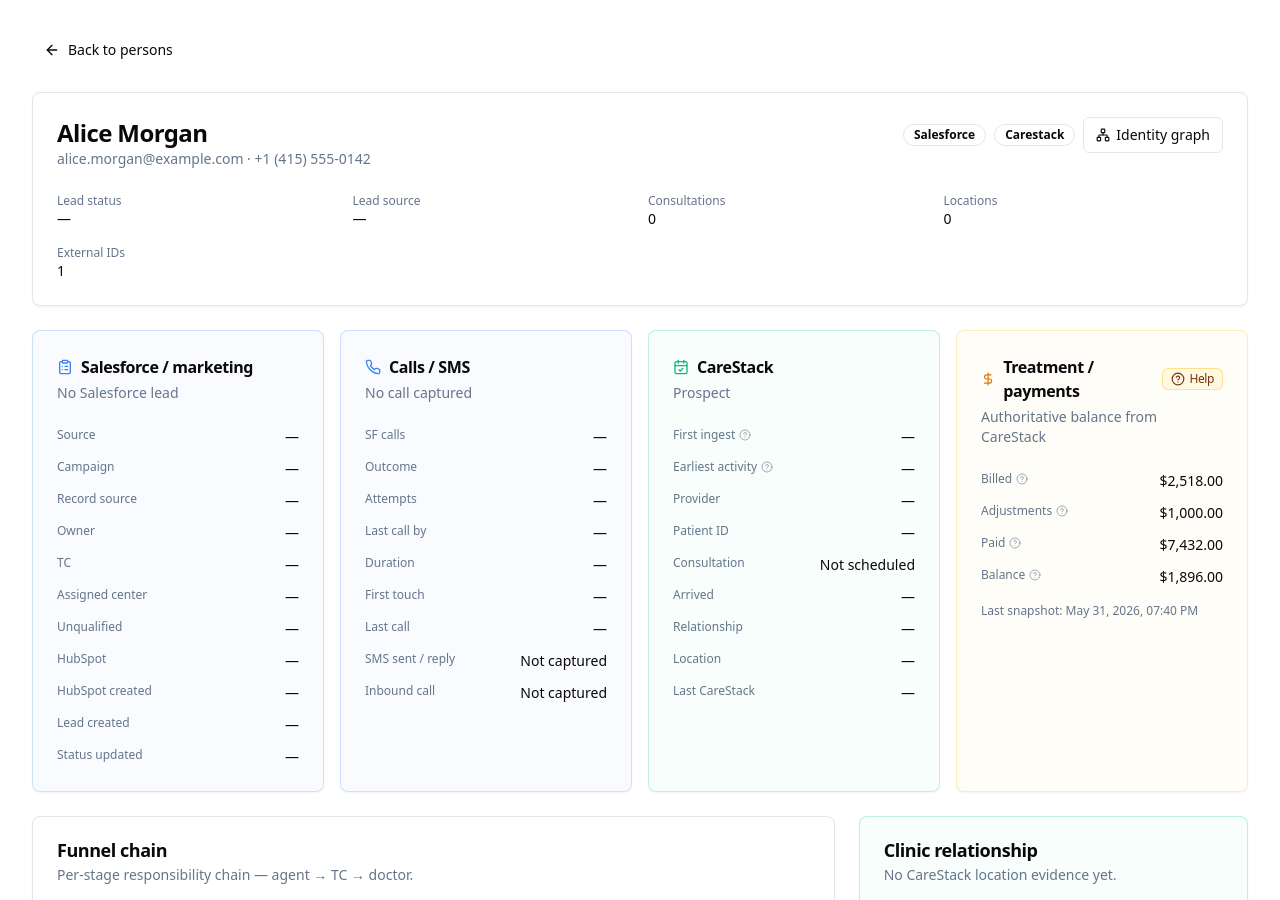
it: FinancialSummaryCard on PersonDetailPage › opens a Help dialog and toggles EN/RU content
Check: the text "Treatment / payments" is shown, box [1003, 356, 1094, 402]
Click the button with aria-label "How to read Treatment / payments" at coordinates (1193, 379), box [1162, 368, 1223, 390]
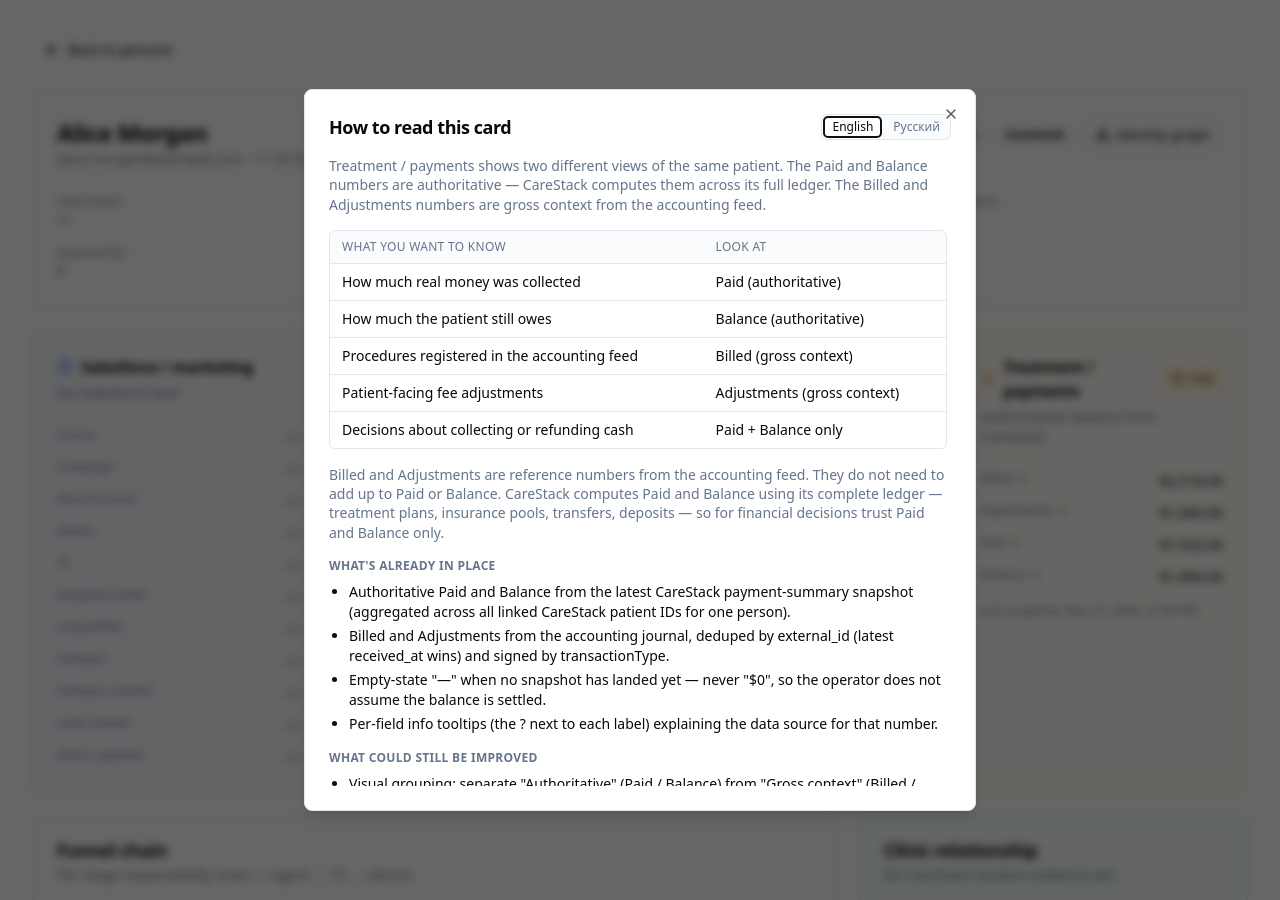
Check: the text "Сколько реально получено денег" is not shown
Check: the heading "How to read this card" is shown, box [329, 118, 511, 136]
Check: the text "How much real money was collected" is shown, box [330, 263, 704, 300]
// Toggle to Russian.
Click the button "Русский" at coordinates (917, 127), box [885, 117, 948, 137]
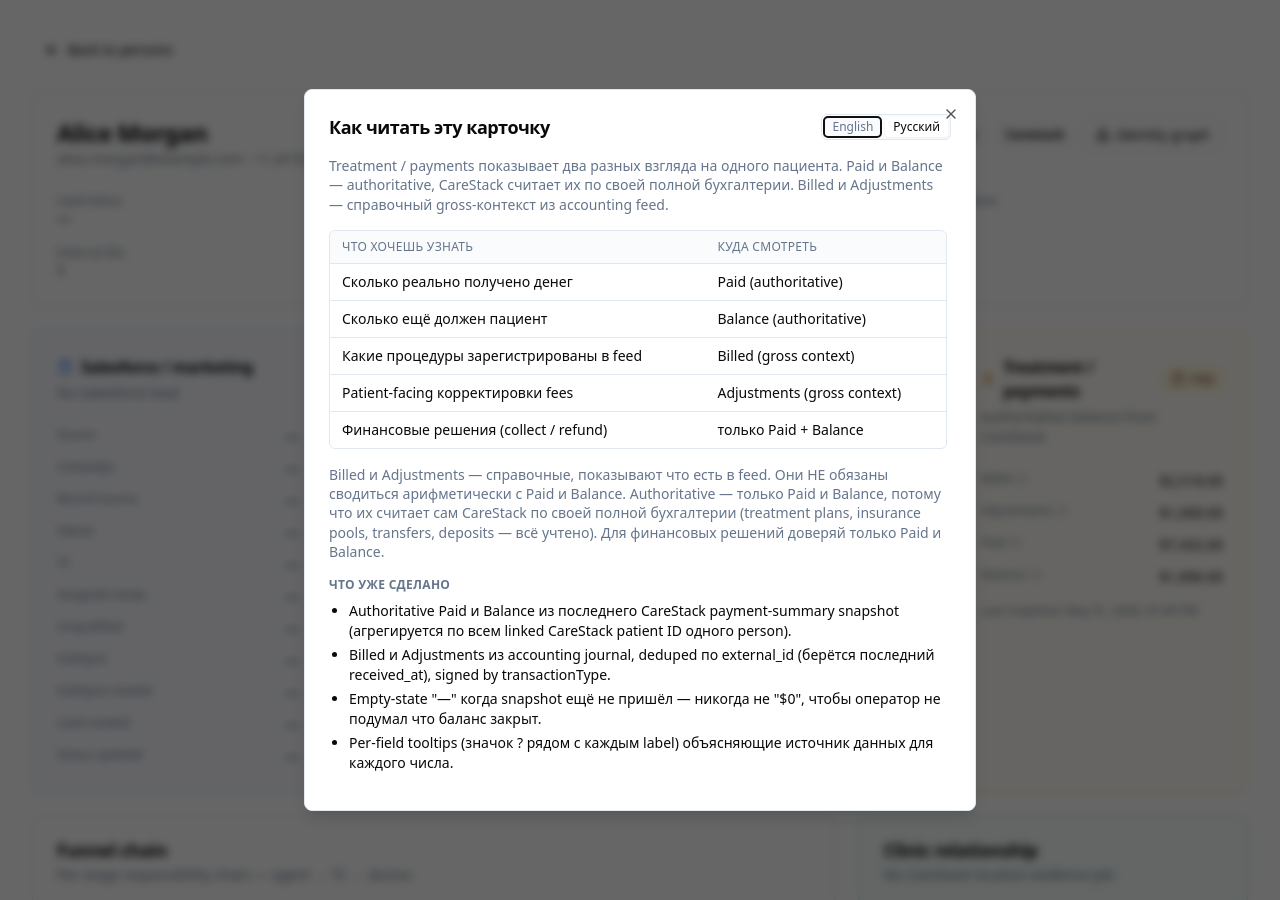
Check: the heading "Как читать эту карточку" is shown, box [329, 118, 550, 136]
Check: the text "Сколько реально получено денег" is shown, box [330, 263, 706, 300]
Check: the text "How much real money was collected" is gone
// Toggle back to English.
Click the button "English" at coordinates (853, 127), box [824, 117, 881, 137]
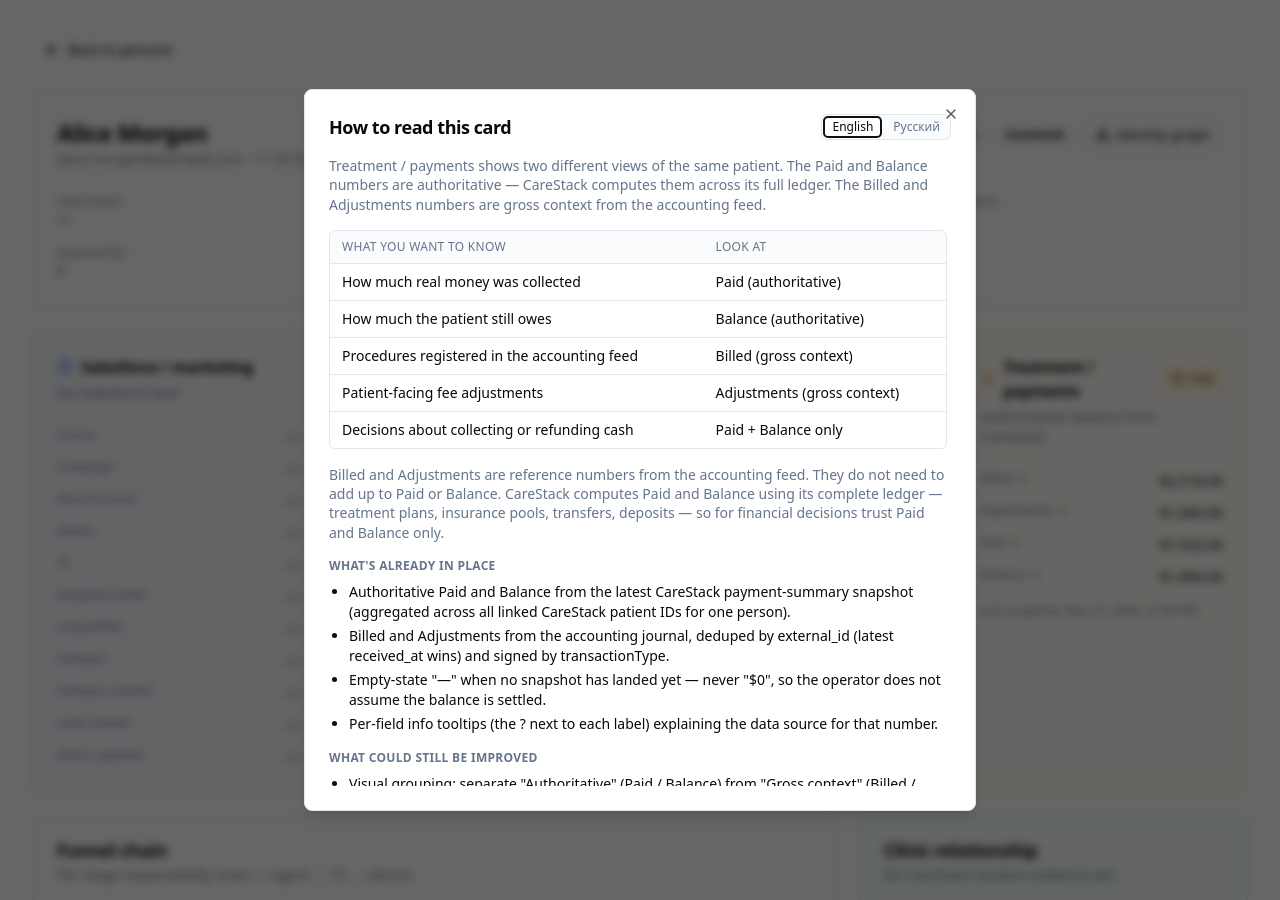
Check: the heading "How to read this card" is shown, box [329, 118, 511, 136]
